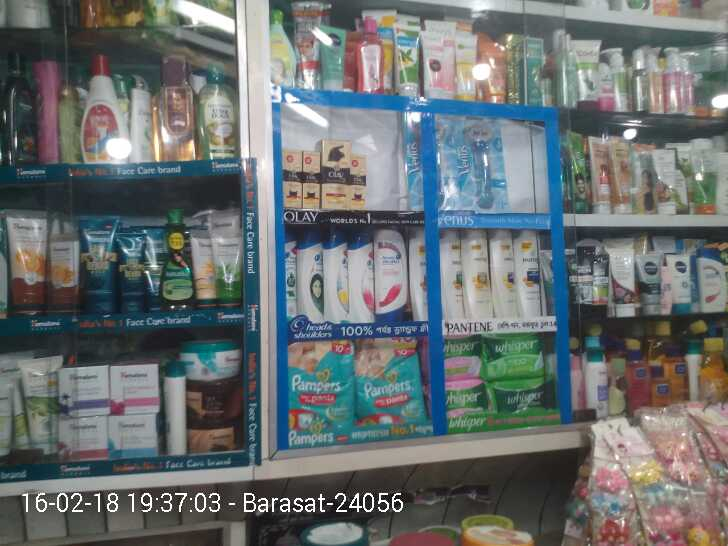venus: (400, 116, 464, 211), (464, 116, 506, 211)
